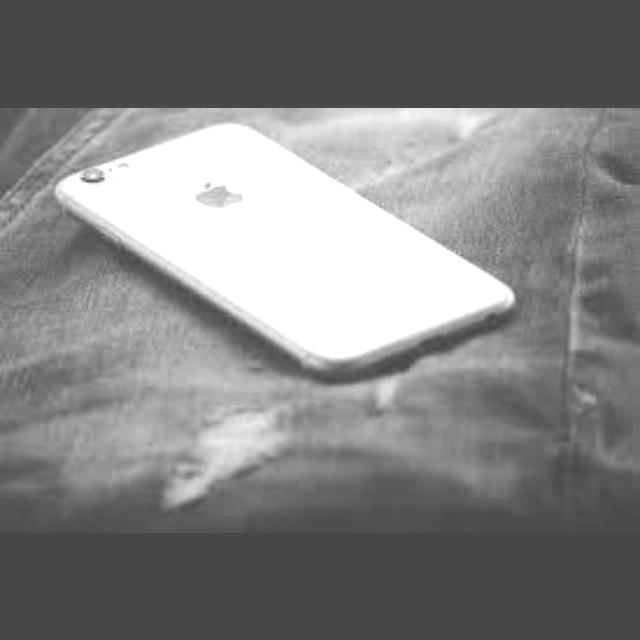fake: (0, 116, 548, 383)
